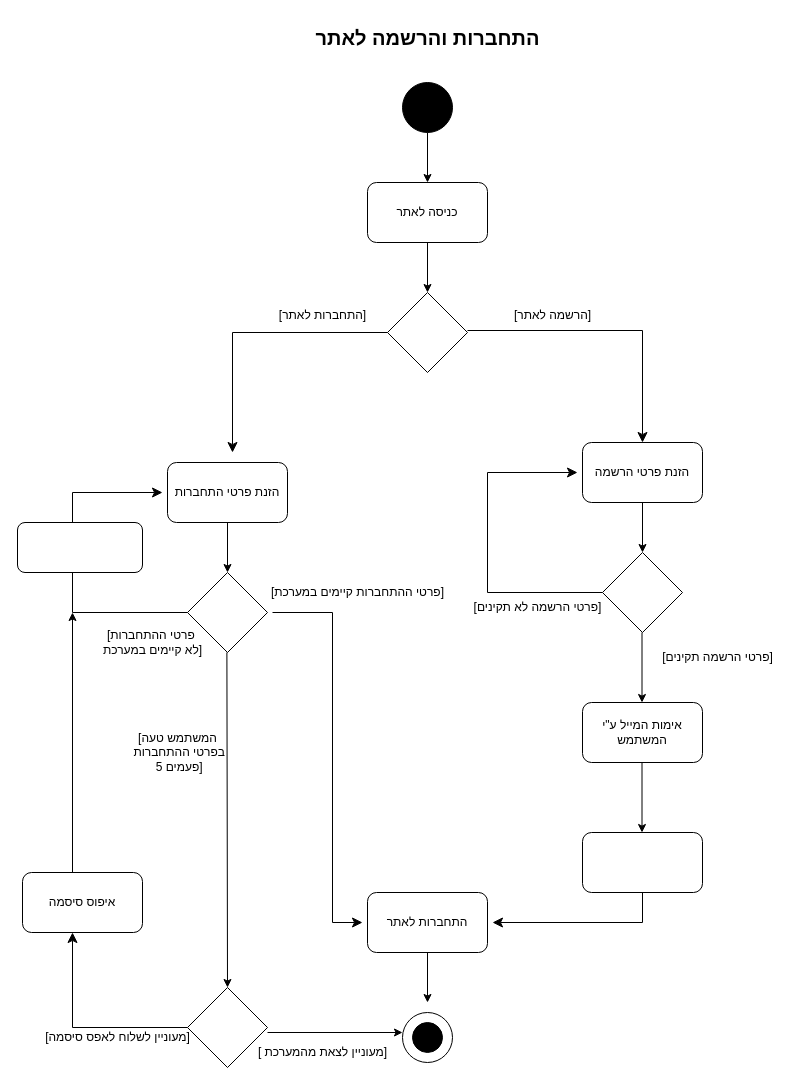
The diagram is 800 pixels wide and 1085 high, and some of its shapes have lost their labels. Each missing label, with the box of its shape:
חשבון נוצר: (582, 832, 702, 892)
משתמש מקבל התראה על פרטי התחברות לא נכונים: (16, 522, 142, 572)
